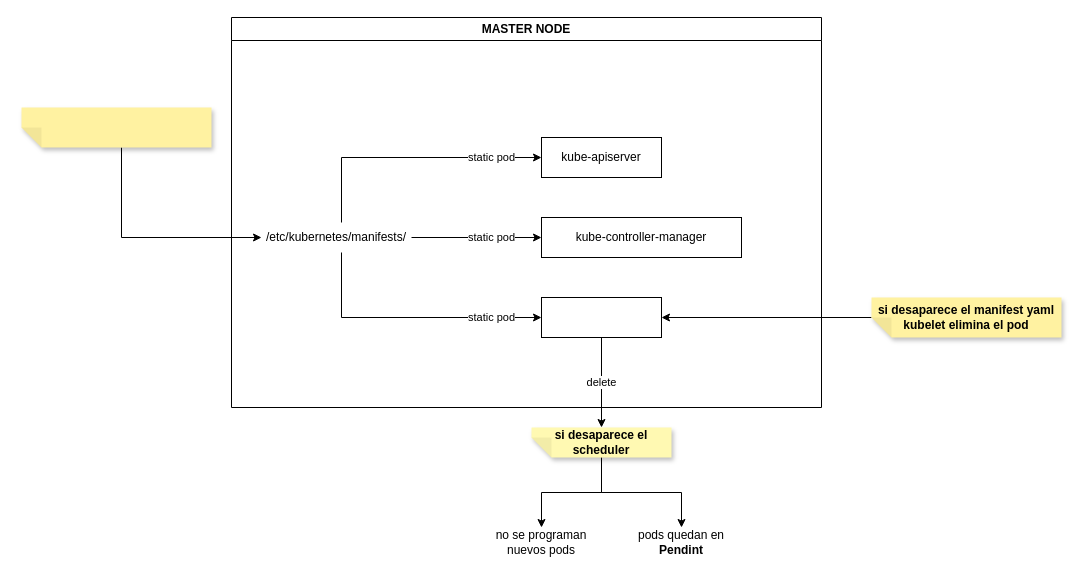
Some shapes in this 1084 by 575 pixel diagram are drawn without their labels. Here are the shapes that lost their labels. From the top down, the centre of each, then its label:
the point at 117,128: kubelet monitorea continuamente
the point at 601,317: kube-scheduler
